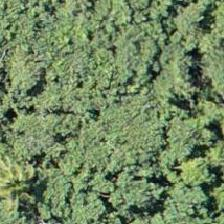coconut_tree: (0, 136, 60, 223)
